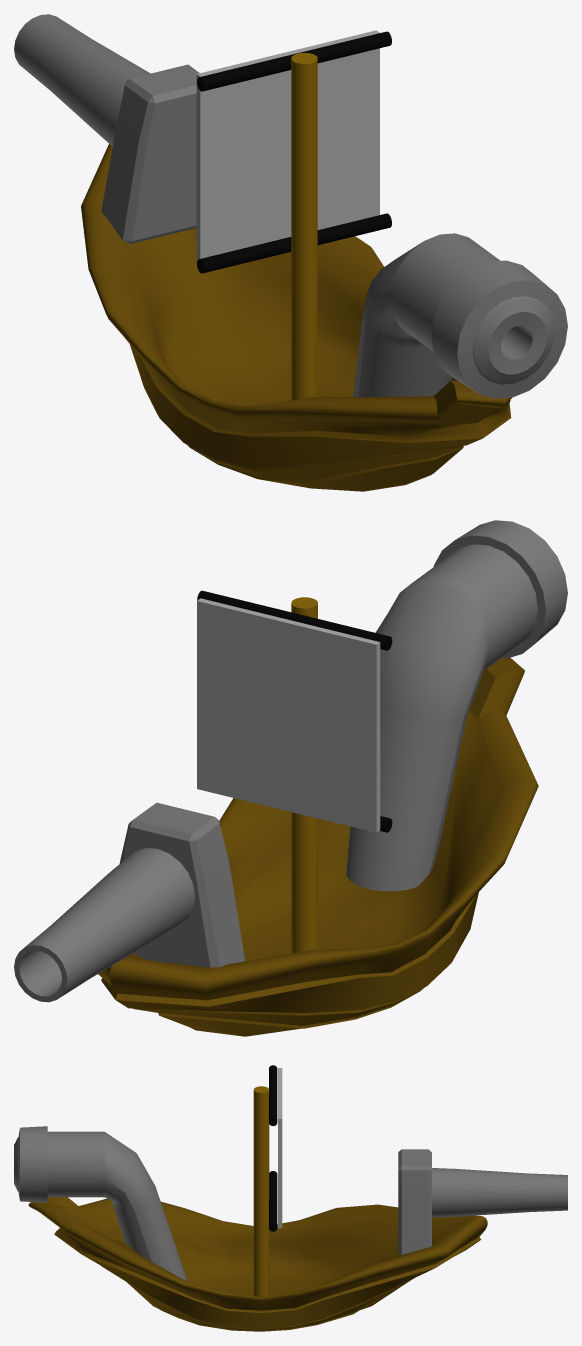
File: SmallShip.fbx
3 views of the same model, one above another, from view 1: azimuth 30°, elevation 25°; view 2: azimuth 150°, elevation 25°; view 3: azimuth 270°, elevation 25° (orthographic). The views are drawn at different scales.
Visible parts, largest first — view 1: pCylinder7, pPlane1; view 2: pCylinder7, pPlane1; view 3: pCylinder7, pPlane1.
Boxes of the visible parts, x1=… form: pCylinder7: x1=14, y1=14, x2=567, y2=491; pPlane1: x1=196, y1=30, x2=379, y2=261; pCylinder7: x1=14, y1=520, x2=567, y2=1036; pPlane1: x1=197, y1=598, x2=380, y2=832; pCylinder7: x1=14, y1=1065, x2=567, y2=1331; pPlane1: x1=278, y1=1068, x2=282, y2=1228.
Size of the model in its own units: 7.01 by 9.1 by 21.45.
